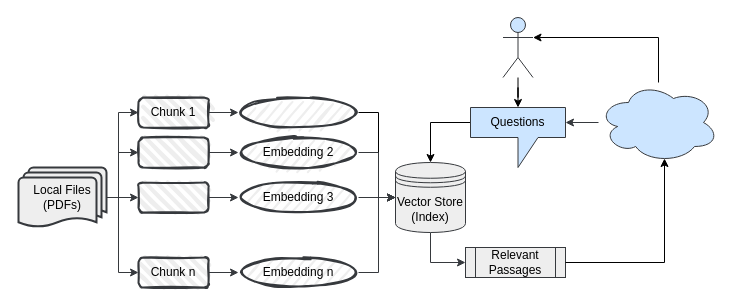
Image size: 736x306. Some labels were removed from this diagram. Each missing label, with the box of its shape:
Chunk 2: (137, 136, 209, 168)
Chunk 3: (137, 181, 209, 213)
Embedding 1: (237, 96, 359, 128)
LLMs: (598, 82, 718, 162)
